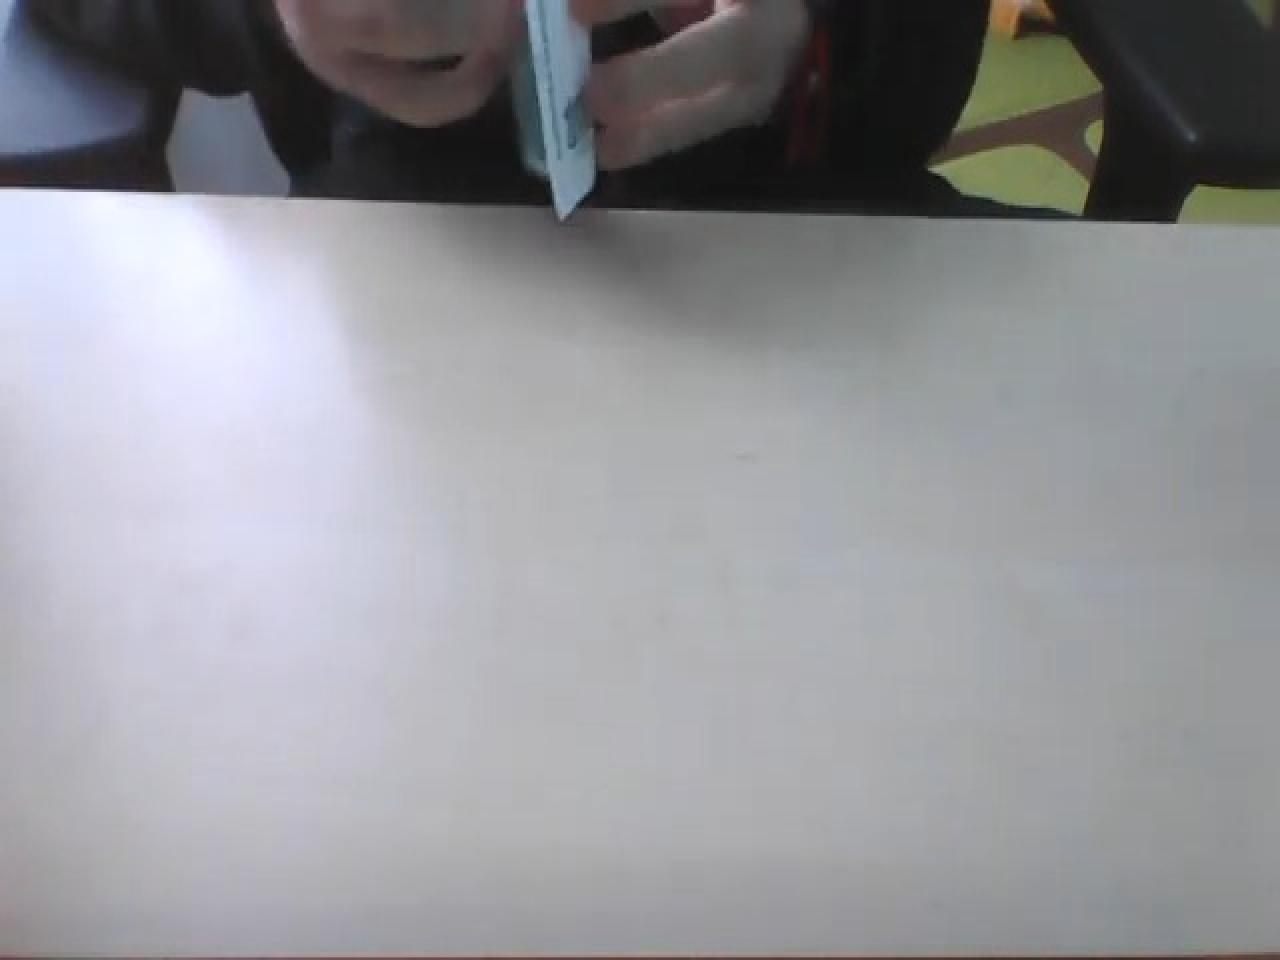100leva: (508, 0, 602, 221)
